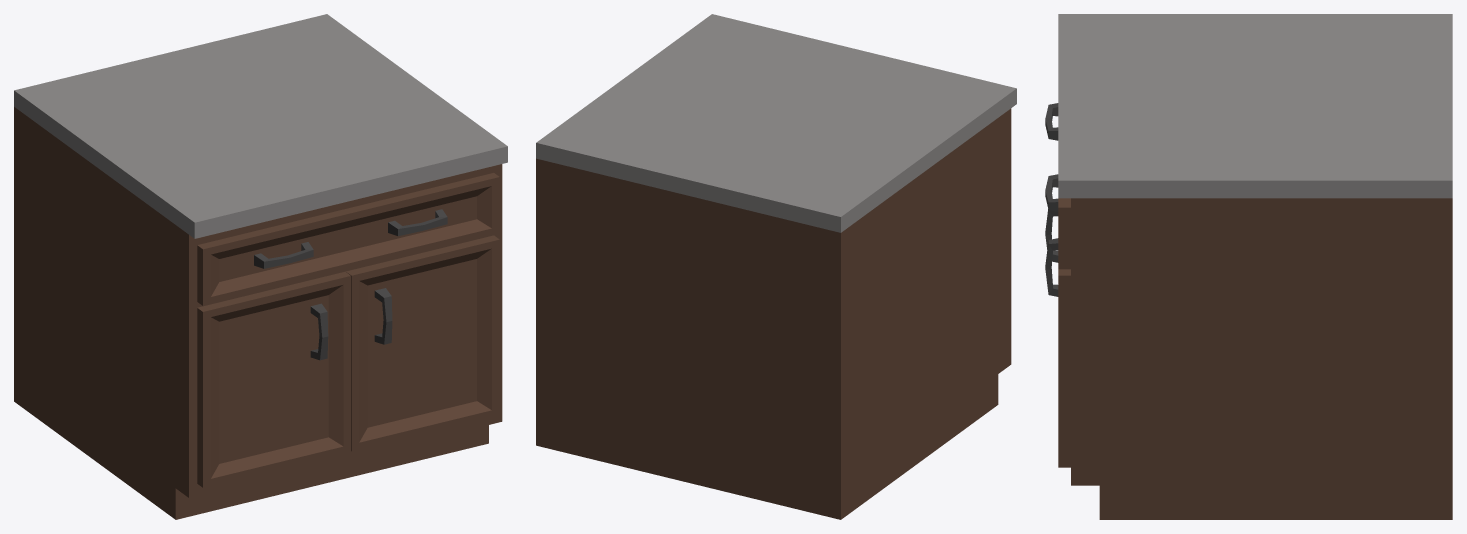
The model's file is SM_Prop_Kitchen_Counter_01.fbx.
3 renders of one model, left to right at view 1: azimuth 30°, elevation 25°; view 2: azimuth 150°, elevation 25°; view 3: azimuth 270°, elevation 25°, orthographic. The views are drawn at different scales.
Parts seen in each view (by area): view 1: SM_Prop_Kitchen_Counter_01; view 2: SM_Prop_Kitchen_Counter_01; view 3: SM_Prop_Kitchen_Counter_01.
Part boxes in pixels (bbox=[...]): SM_Prop_Kitchen_Counter_01: bbox=[14, 14, 507, 519]; SM_Prop_Kitchen_Counter_01: bbox=[536, 14, 1016, 519]; SM_Prop_Kitchen_Counter_01: bbox=[1045, 14, 1452, 519].
Size of the model in its own units: 100 by 94.96 by 103.
